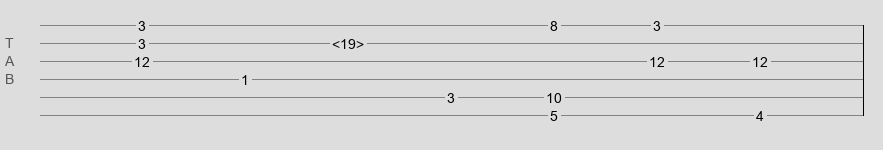1: (241, 72, 249, 82)
10: (546, 90, 562, 100)
12: (134, 54, 150, 64), (649, 54, 665, 64), (752, 54, 768, 64)
3: (138, 18, 146, 28), (138, 36, 146, 46), (447, 90, 455, 100), (653, 18, 661, 28)
4: (756, 108, 764, 118)
5: (550, 108, 558, 118)
8: (550, 18, 558, 28)
harmonic: (332, 36, 364, 46)
